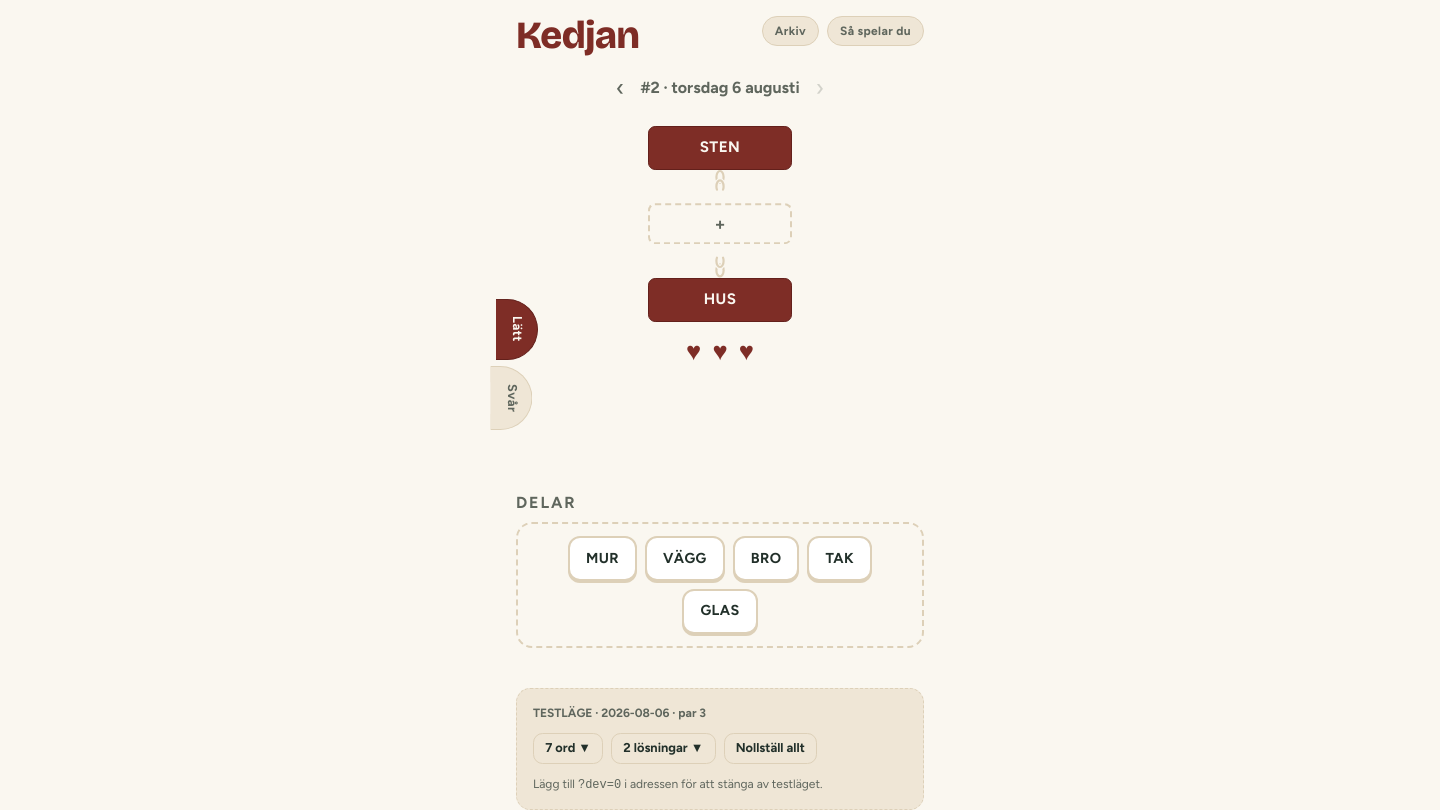
Test case: the ending dialog › explains a loss and offers a fresh try
Click the button with aria-label "glas." at (720, 611), box [682,589,758,634]
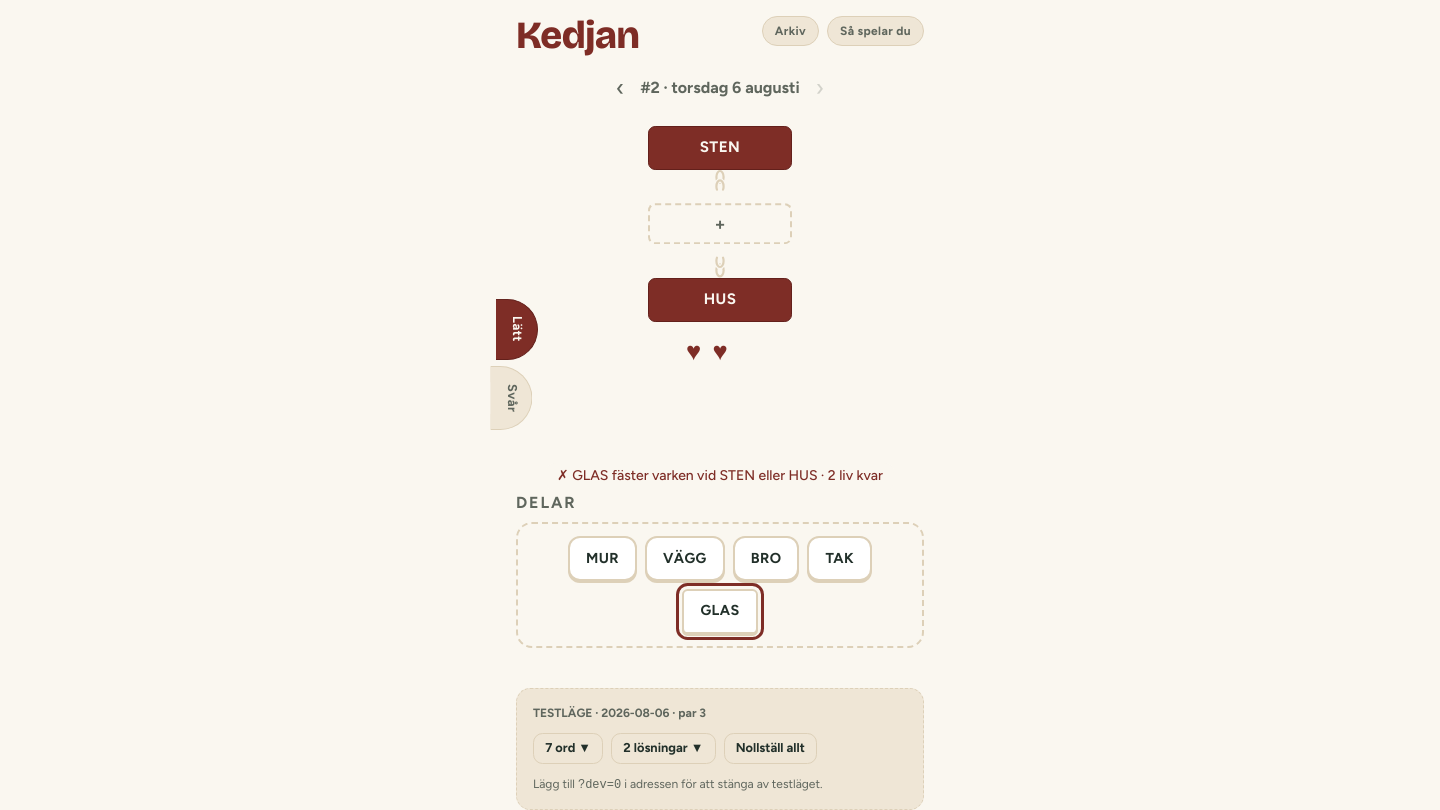
Click the button with aria-label "glas." at (720, 611), box [682,589,758,634]
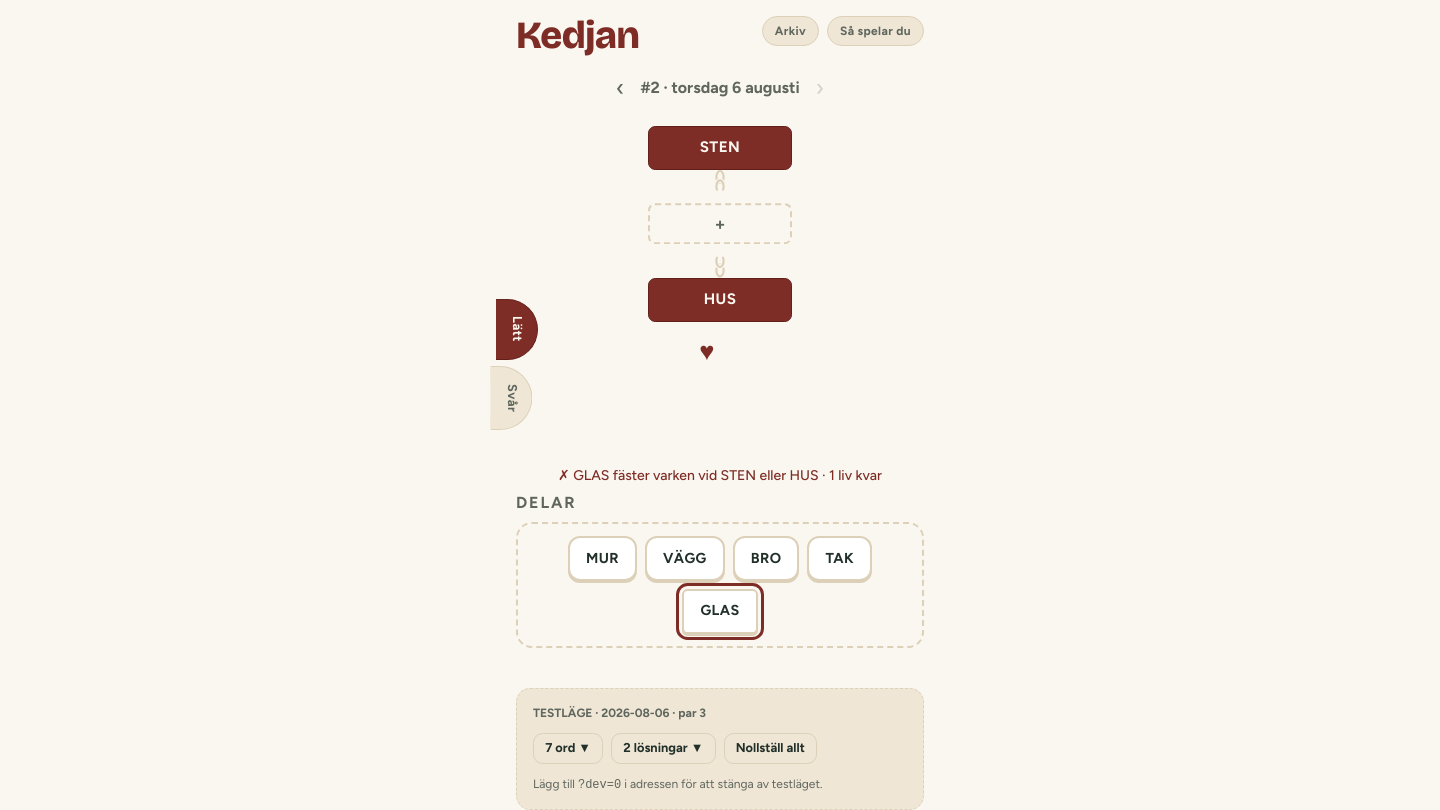
Click the button with aria-label "glas." at (720, 611), box [682,589,758,634]
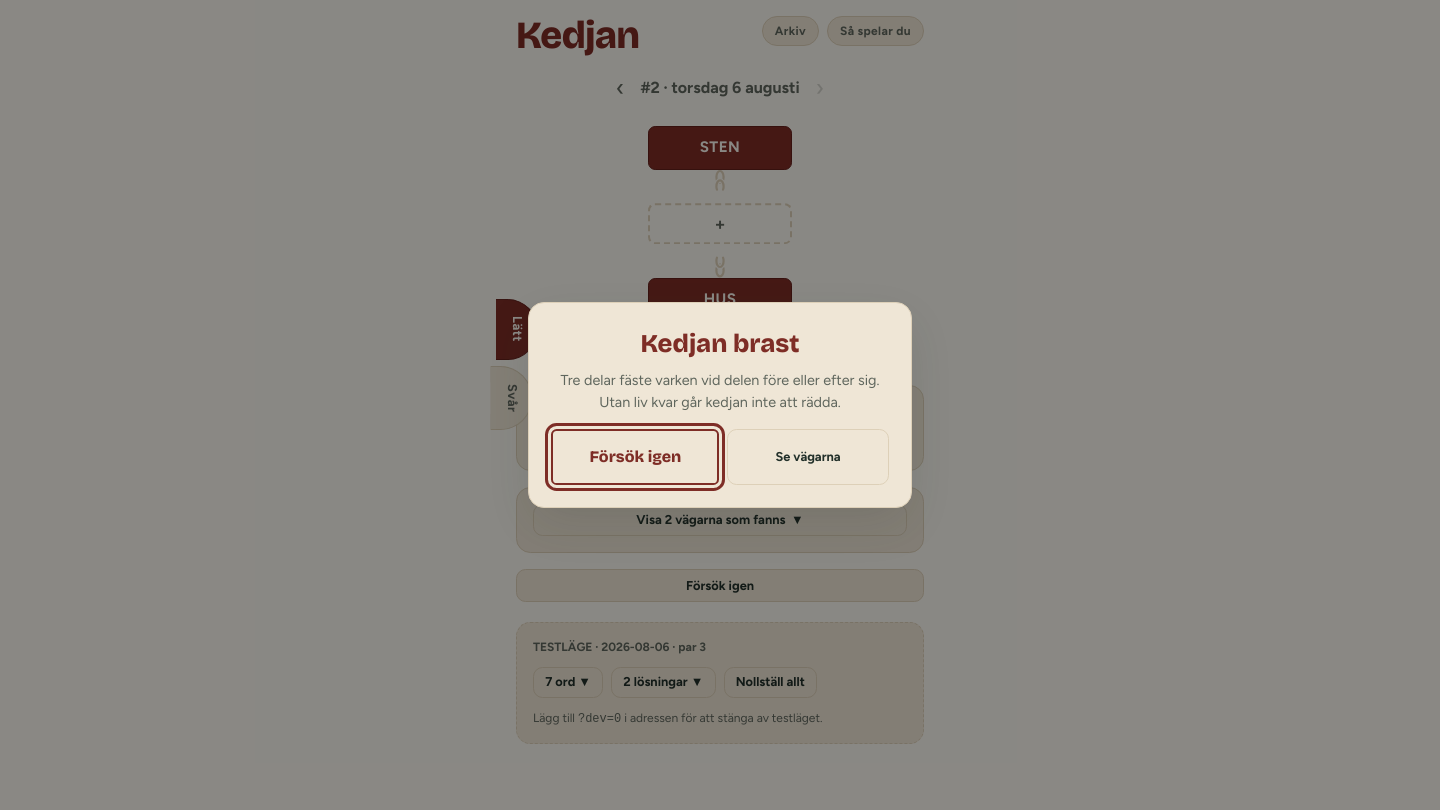
Now the heading "Kedjan brast" is shown, box [640,328,800,359]
Now the text "fäste varken vid delen före eller efter" is shown, box [560,371,880,411]
Click the button "Försök igen" at (635, 457), box [551,429,719,485]
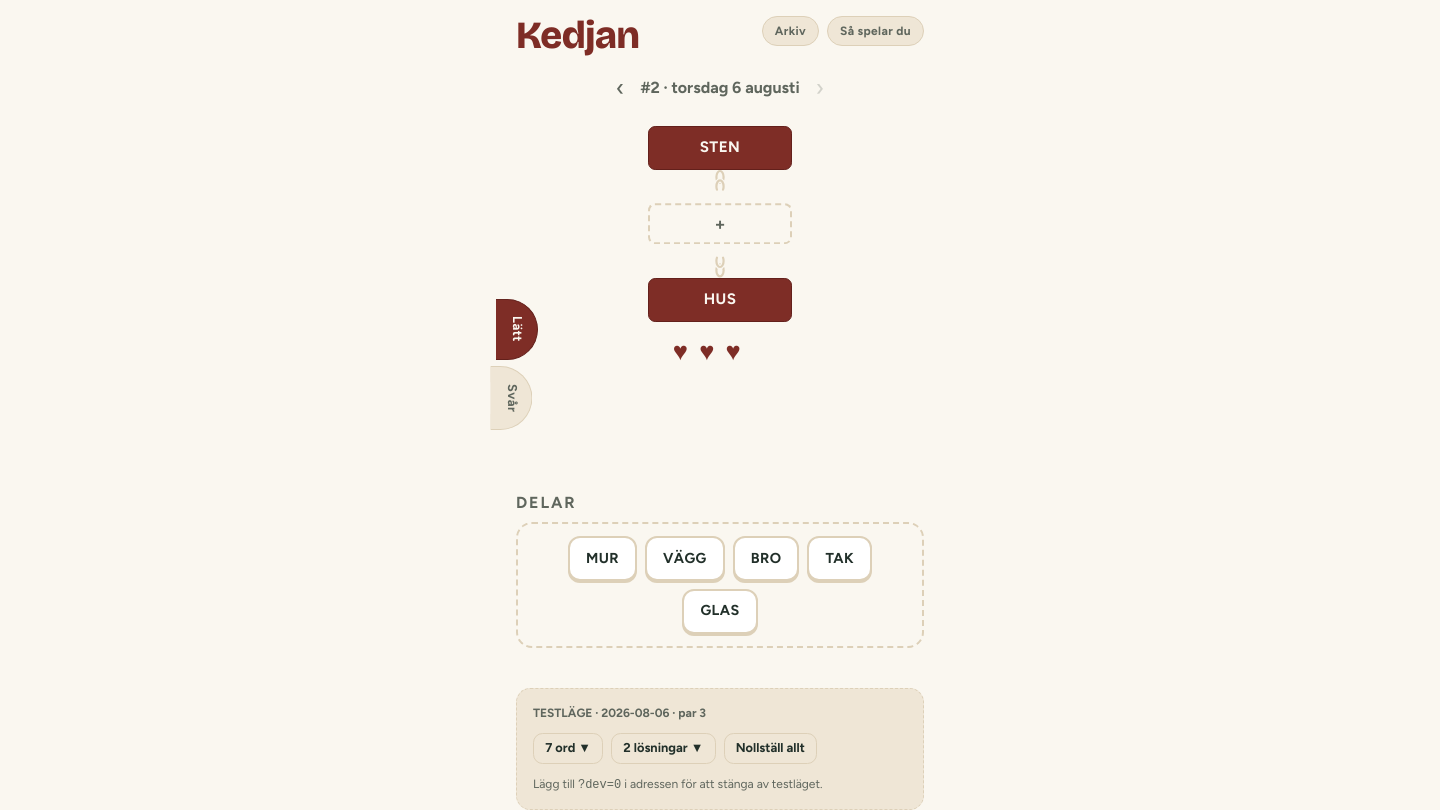
Now the picture named "3 liv kvar" is shown, box [673,336,741,366]
